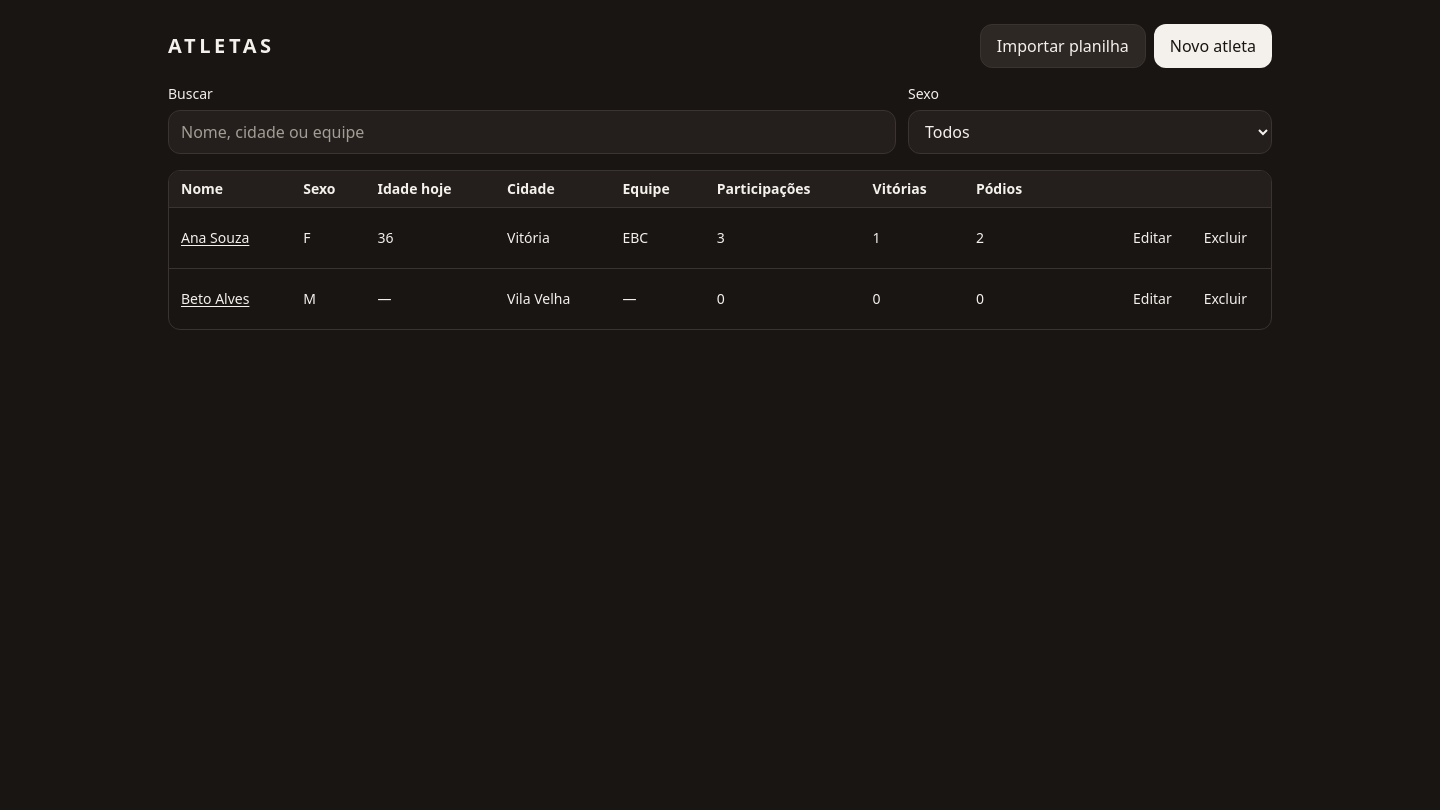
Test: AthletesPage › shows the server error message and does not remove the row when delete fails
The width and height of the screenshot is (1440, 810).
Expected: the link "Ana Souza" is shown, left=181, top=228, right=249, bottom=247
Step 1. Click the button "Excluir" in the row of "Ana Souza" → (1225, 238), box left=1192, top=216, right=1259, bottom=260
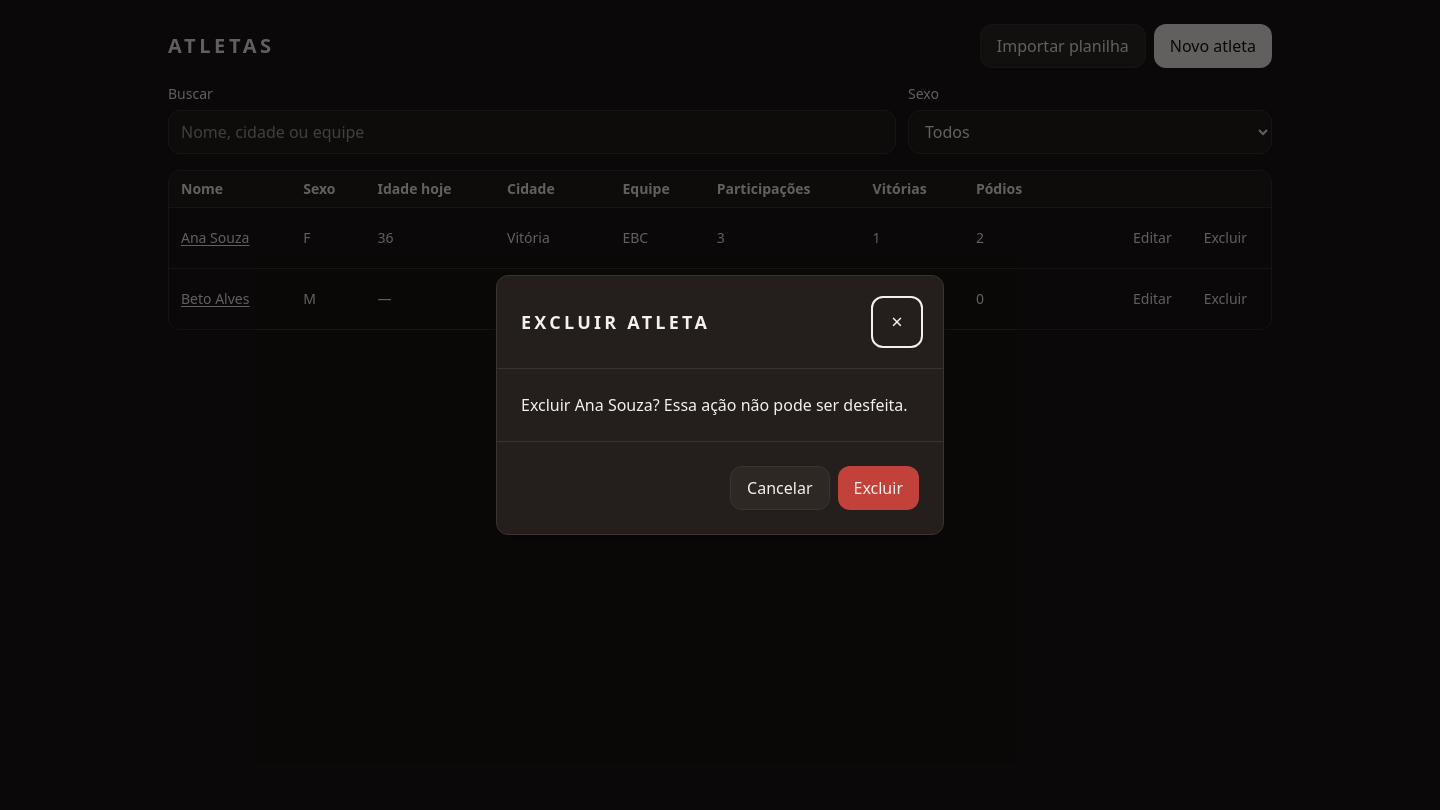
Step 2. Click the button with test id "confirm-ok" → (878, 488), box left=838, top=466, right=919, bottom=510
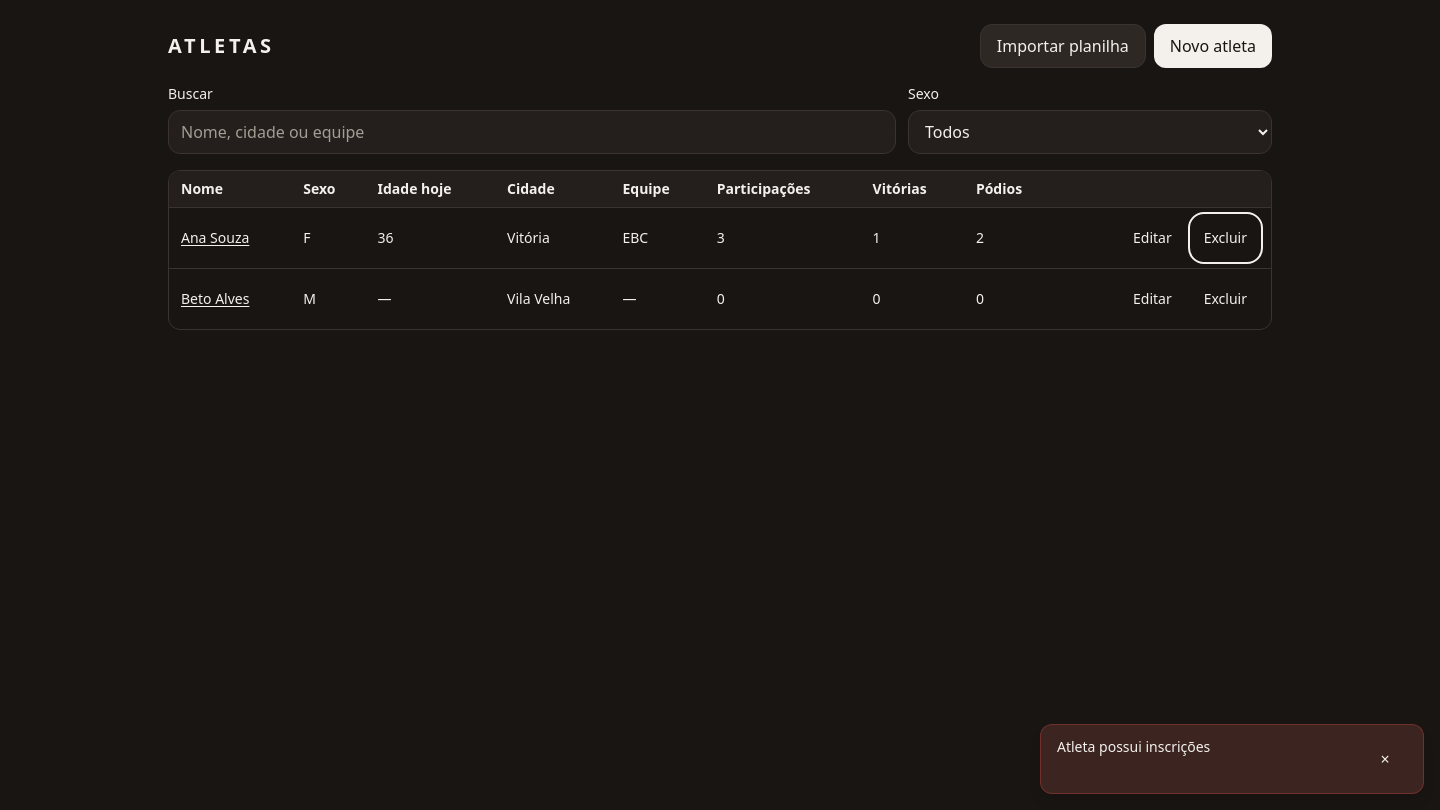
Expected: the link "Ana Souza" is shown, left=181, top=228, right=249, bottom=247
Result: the text "Atleta possui inscrições" is shown at left=1057, top=737, right=1210, bottom=756
